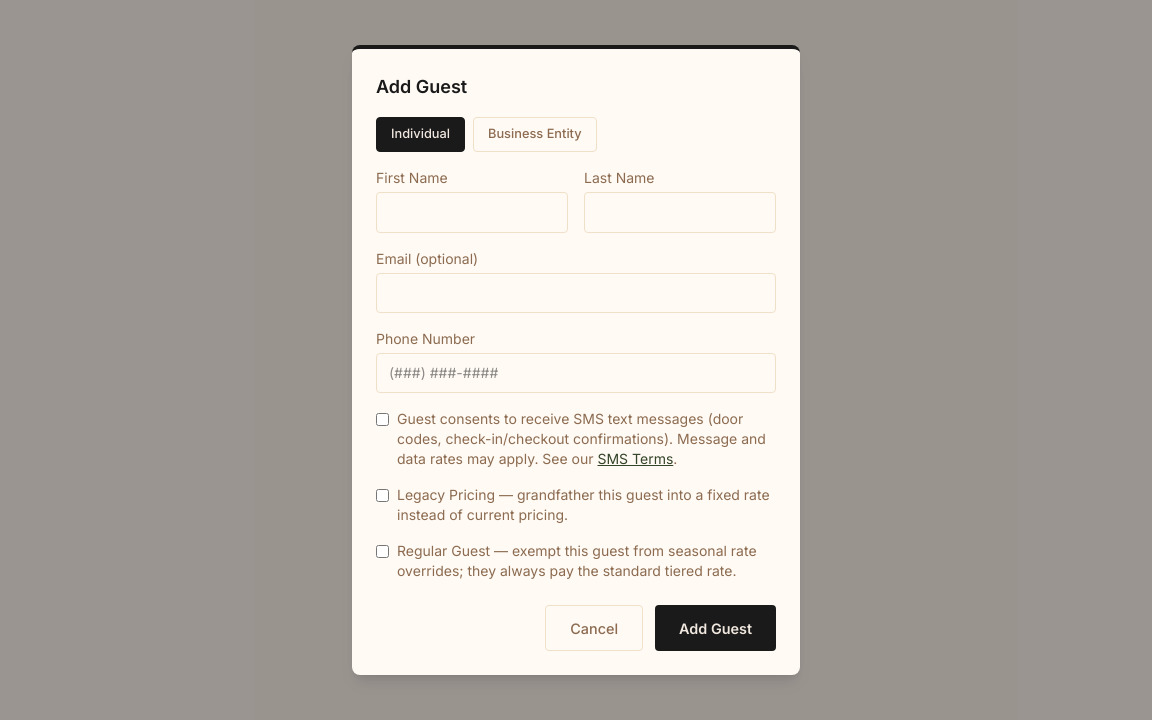
Test: GuestEditModal - new guest › shows a duplicate-email message on a 409
The image size is (1152, 720).
Type "Sam" into the field named "firstName" below "First Name" at (472, 212), box 376,192 -> 568,232
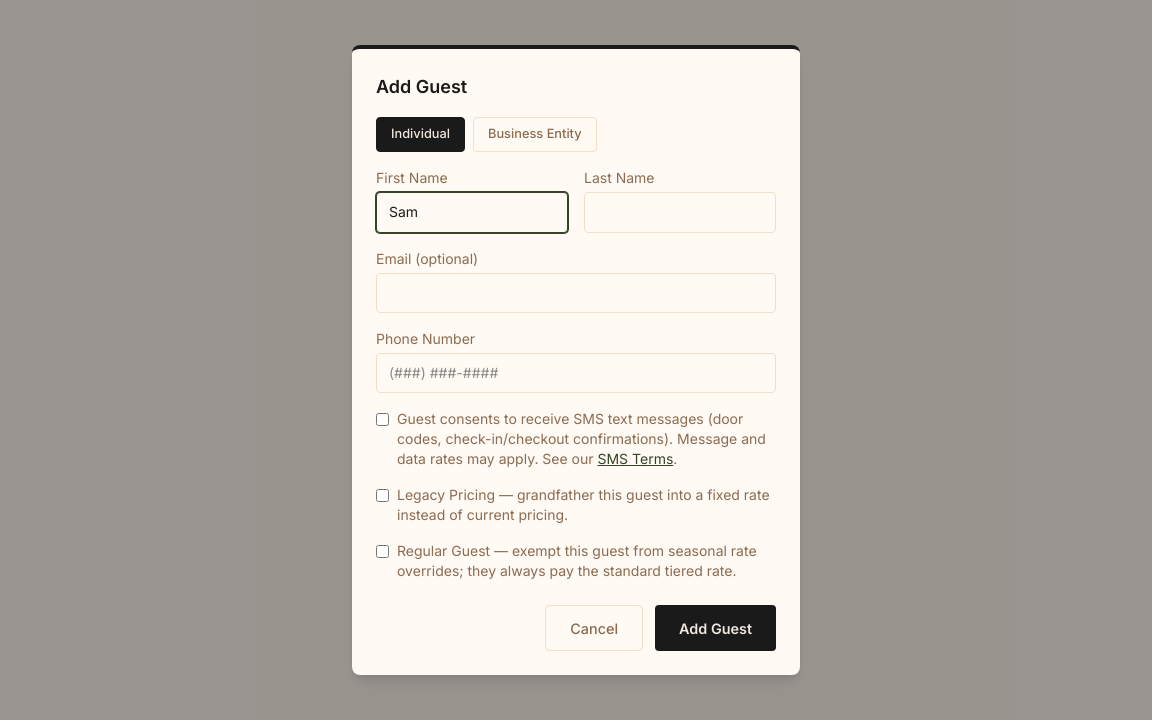
Type "Doe" into the field named "lastName" below "Last Name" at (680, 212), box 584,192 -> 776,232
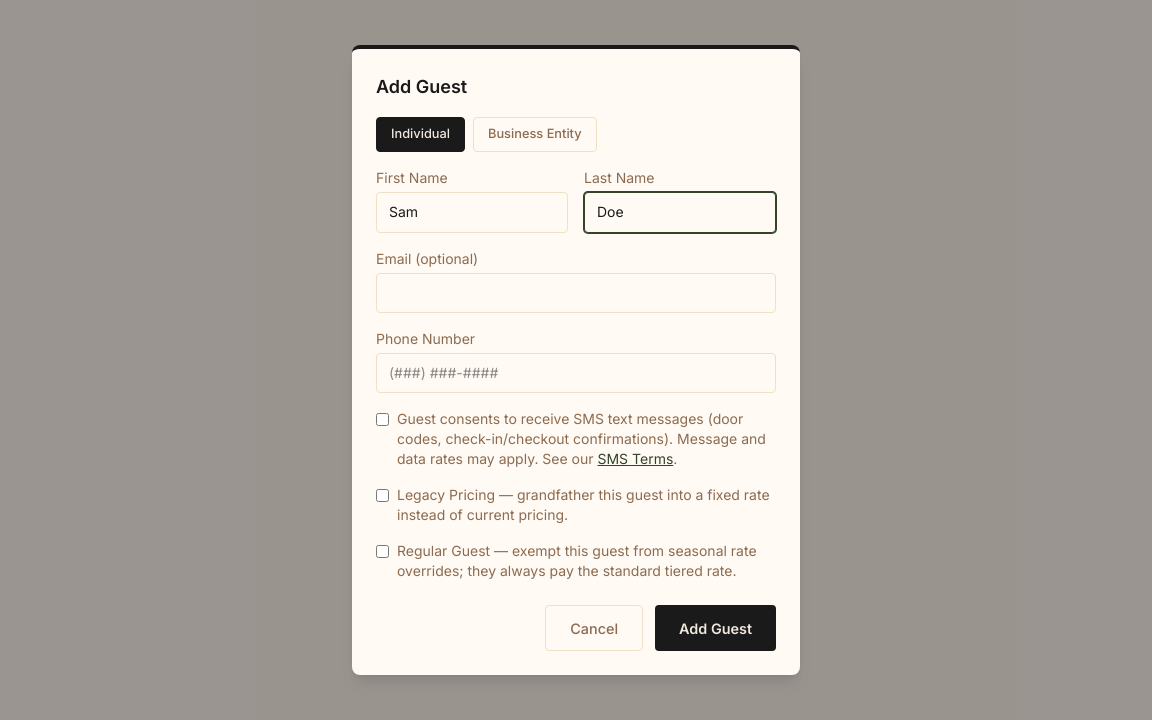
Type "5551234567" into the field named "phoneNumber" at (576, 373), box 376,353 -> 776,393
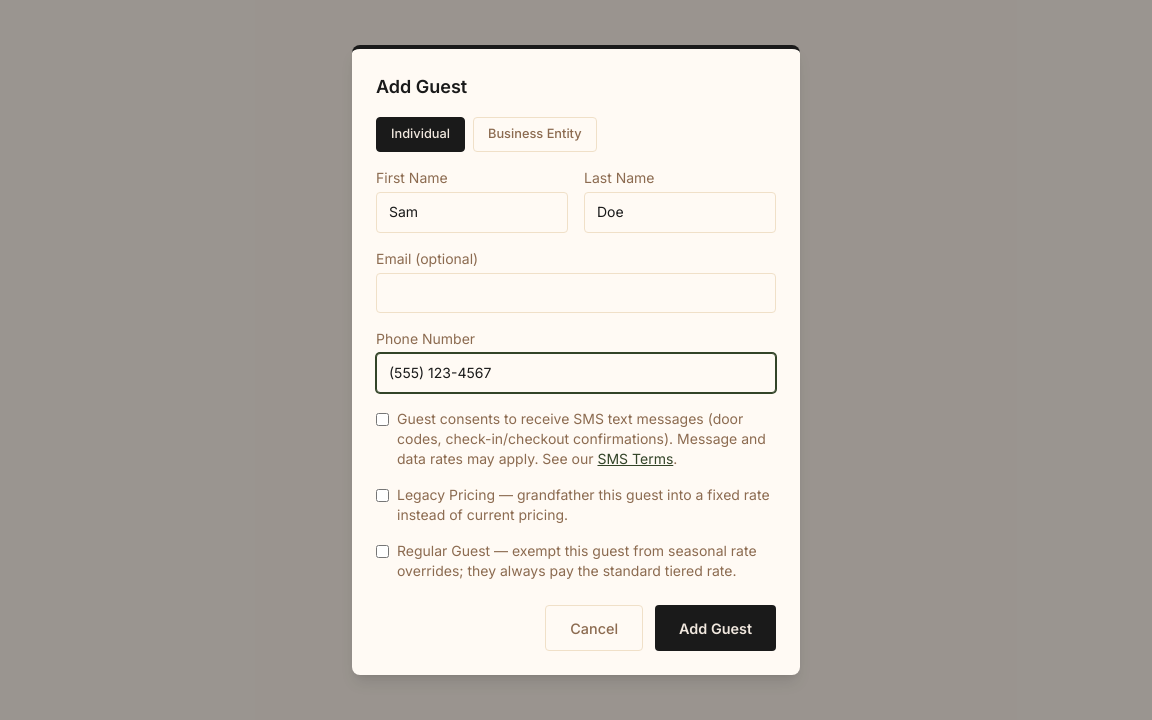
Click the button "Add Guest" at (716, 628), box 655,605 -> 776,651
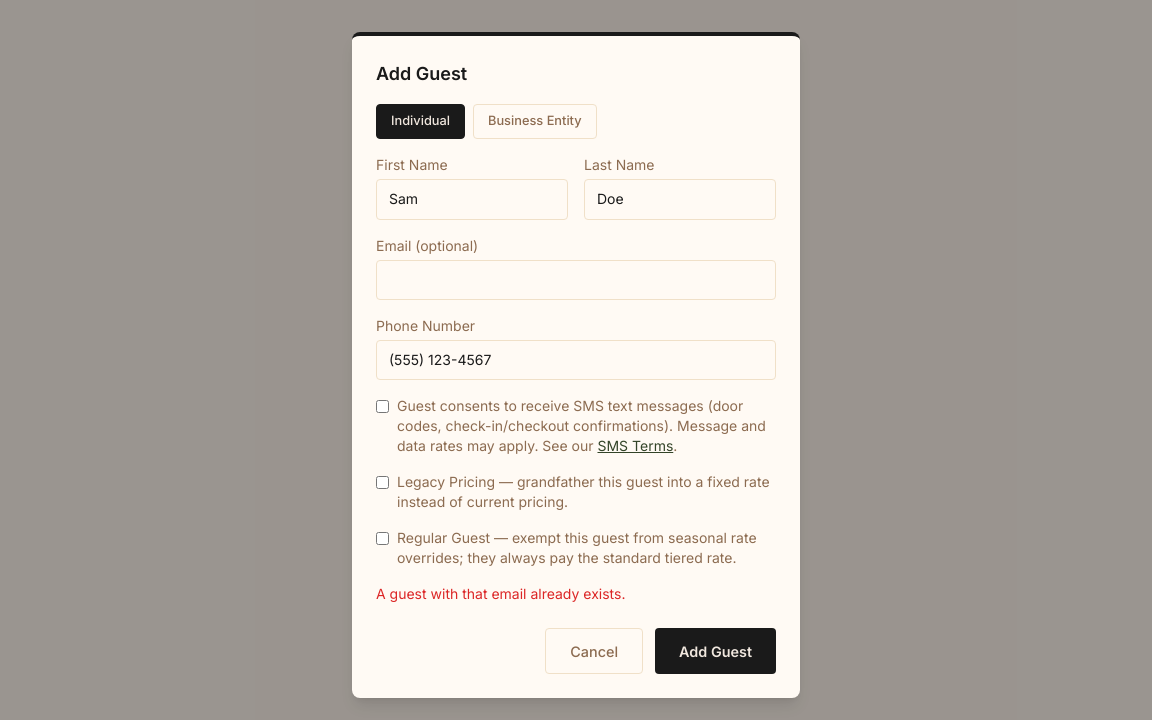
Check: the text "A guest with that email already exists." is shown, box 376,585 -> 626,602
